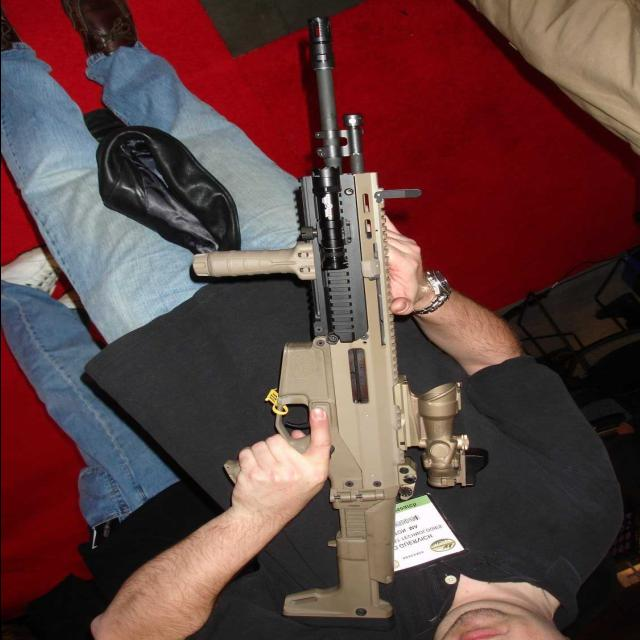heavyweapon: (173, 7, 472, 620)
